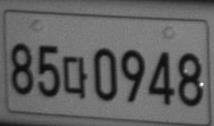0: (93, 47, 117, 100)
4: (148, 51, 175, 105)
5: (37, 45, 60, 97)
8: (177, 52, 203, 106), (10, 42, 34, 95)
9: (120, 48, 145, 101)
다: (63, 56, 88, 98)
